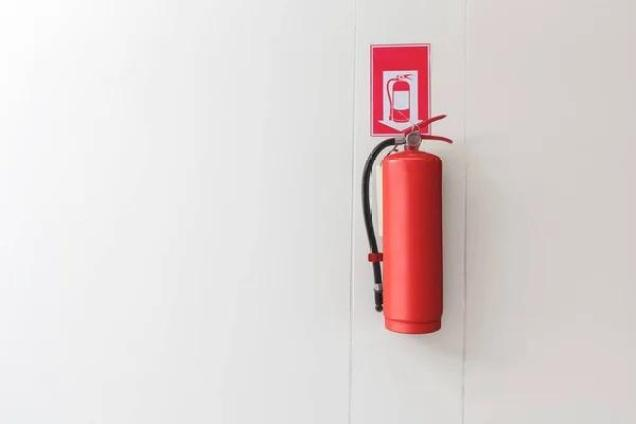APAR: (380, 113, 453, 333)
